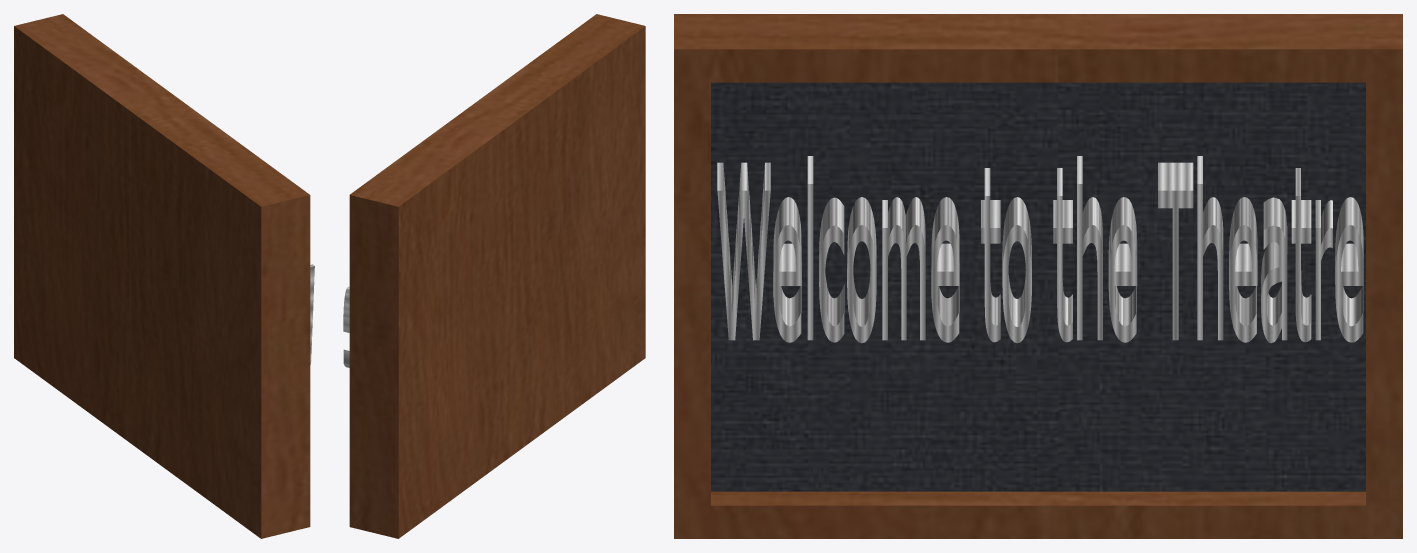
Rendered from welcome theatre.dae.
3 renders of one model, left to right at view 1: azimuth 30°, elevation 25°; view 2: azimuth 150°, elevation 25°; view 3: azimuth 270°, elevation 25°, orthographic. The views are drawn at different scales.
Visible parts, largest first — view 1: SketchUp; view 2: SketchUp, instance_0_018; view 3: SketchUp_001, SketchUp, SketchUp_002, instance_0, instance_0_005, instance_0_011, instance_0_018, instance_0_006, instance_0_001, instance_0_014, instance_0_015, instance_0_013 (+10 smaller).
Part boxes in pixels (x1=…): SketchUp: x1=14, y1=14, x2=310, y2=538; SketchUp: x1=349, y1=14, x2=645, y2=538; instance_0_018: x1=343, y1=286, x2=349, y2=367; SketchUp_001: x1=711, y1=82, x2=1365, y2=491; SketchUp: x1=674, y1=14, x2=1402, y2=538; SketchUp_002: x1=711, y1=491, x2=1365, y2=505; instance_0: x1=717, y1=162, x2=770, y2=340; instance_0_005: x1=882, y1=197, x2=925, y2=340; instance_0_011: x1=1108, y1=197, x2=1137, y2=342; instance_0_018: x1=1335, y1=197, x2=1363, y2=342; instance_0_006: x1=931, y1=197, x2=959, y2=342; instance_0_001: x1=773, y1=197, x2=801, y2=342; instance_0_014: x1=1229, y1=197, x2=1257, y2=342; instance_0_015: x1=1261, y1=197, x2=1287, y2=343; instance_0_013: x1=1197, y1=156, x2=1223, y2=340.
Bounding box in the file's own units: 0.1706 × 1.07 × 0.7913.
Materials: 3 (3 with a texture image).
